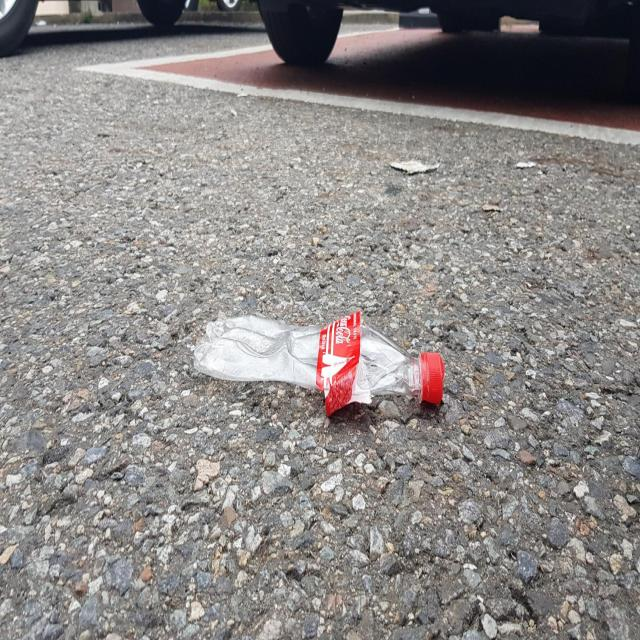plastic: (194, 309, 445, 416)
